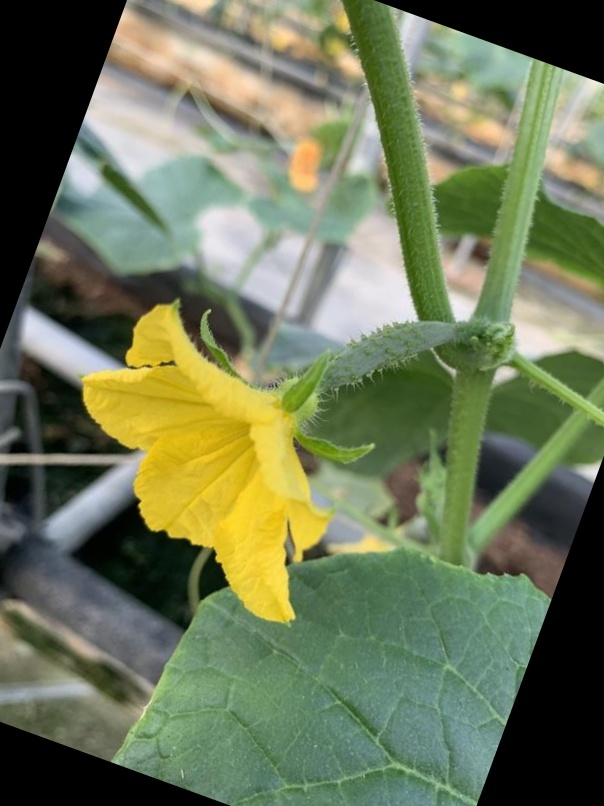flowering: (73, 284, 436, 636)
